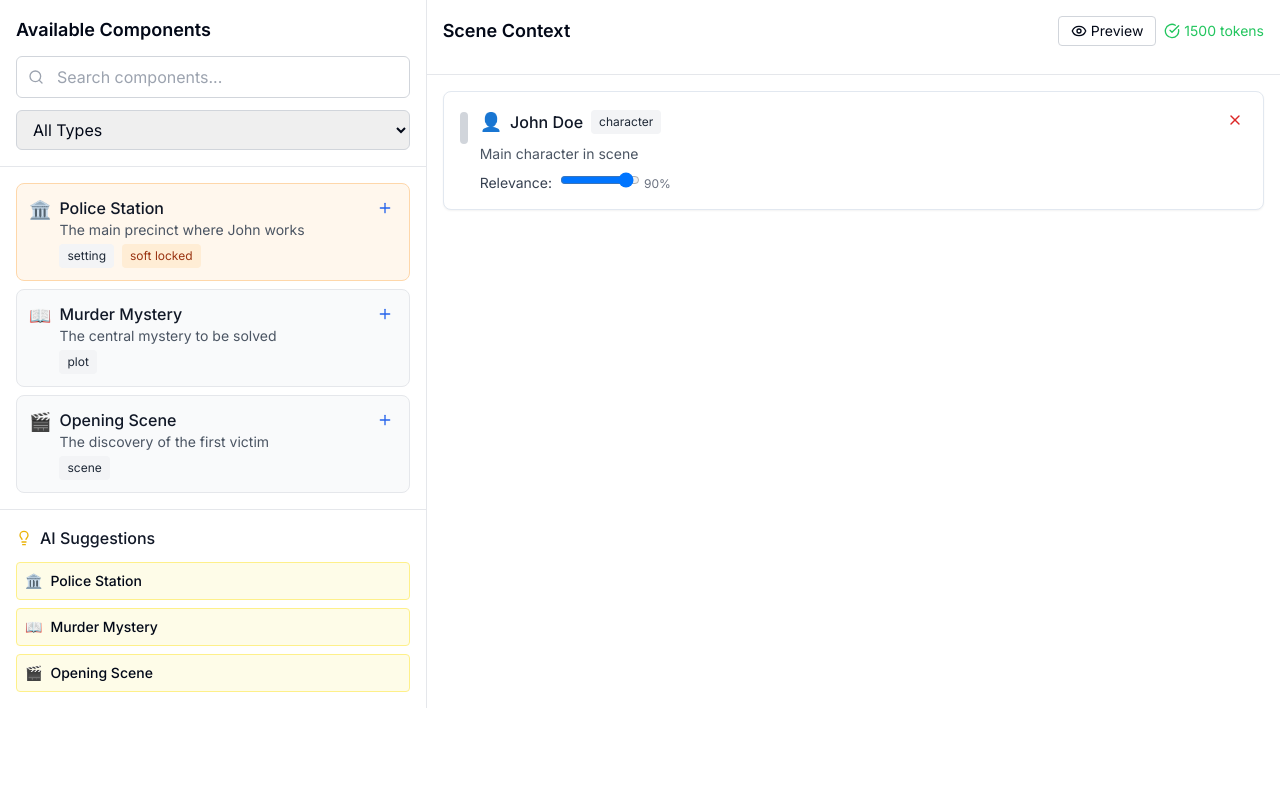
Test case: ContextBuilder › Preview Mode › toggles preview mode
The width and height of the screenshot is (1280, 800).
Step 1. Click the button "Preview" → {"x": 1107, "y": 31}, box [1058,16,1156,46]
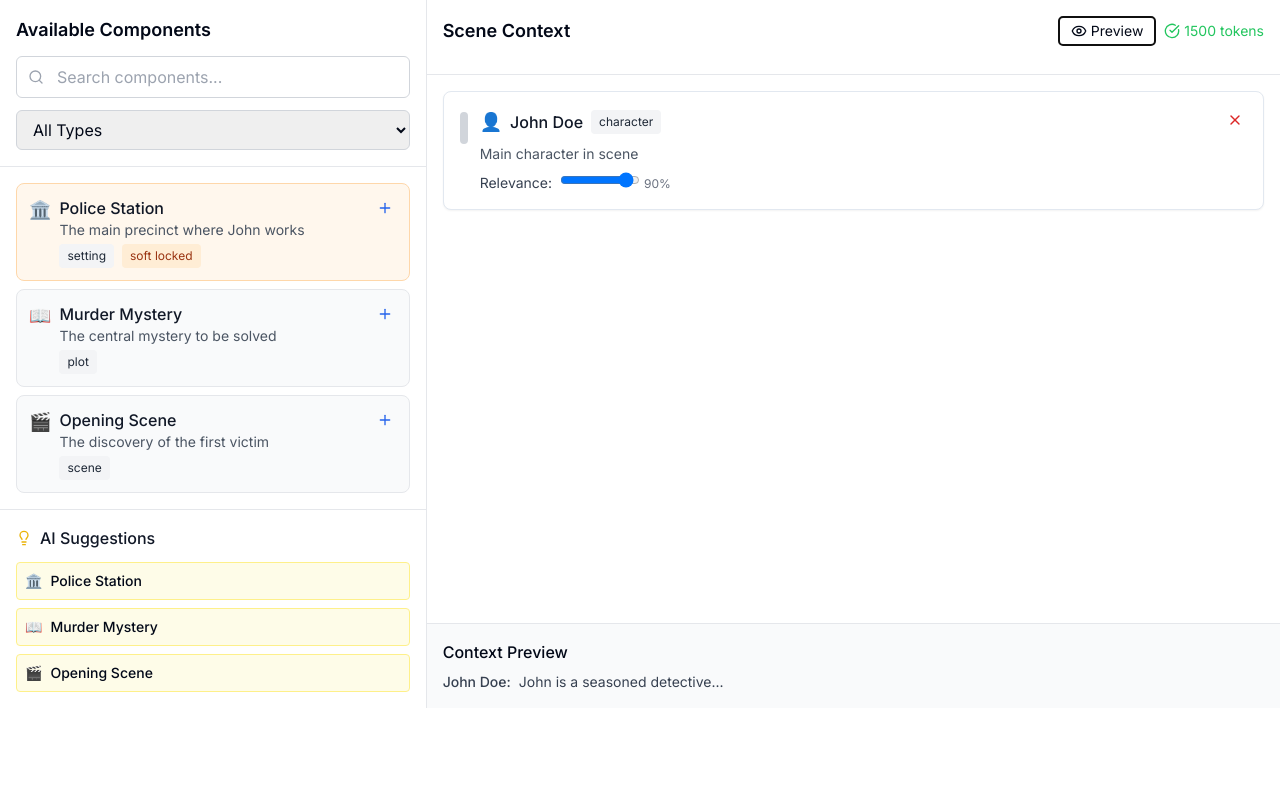
Result: the heading "Context Preview" is shown at [443,642,568,662]
